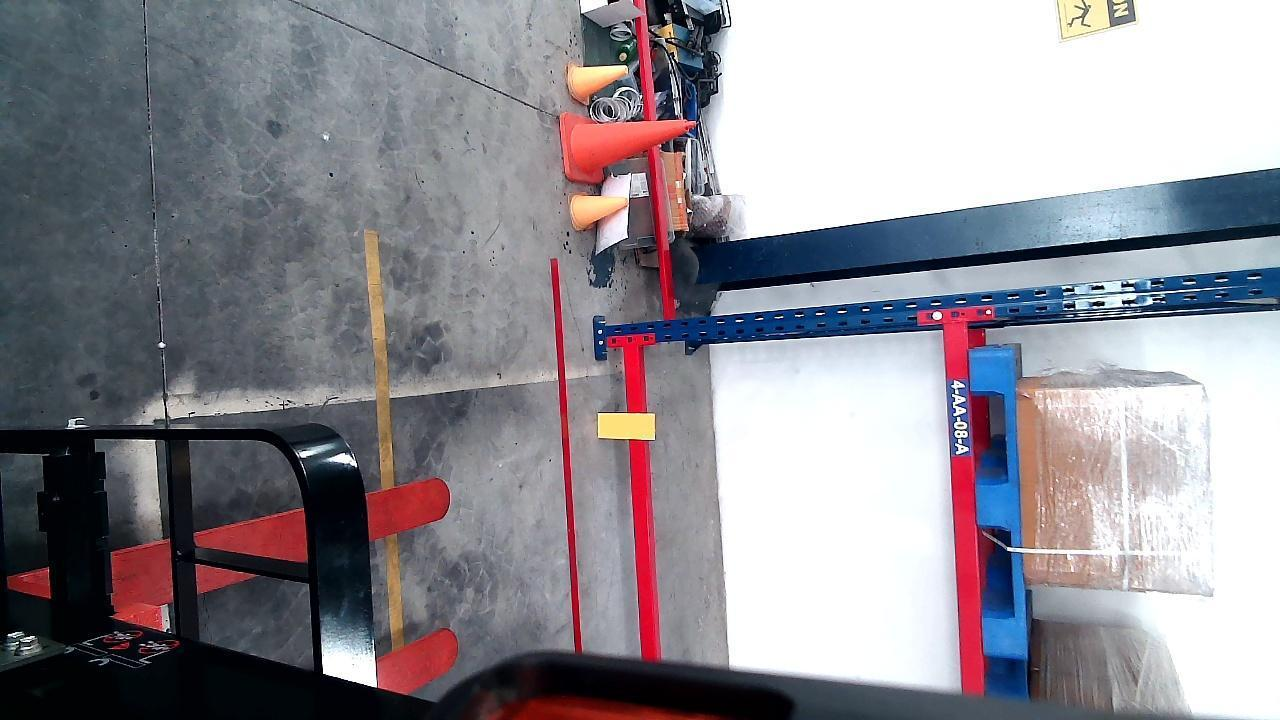h_rack: (945, 320, 982, 698), (624, 341, 664, 659)
orange_strip: (598, 412, 654, 440)
red_line: (549, 253, 585, 661)
small_pallet: (974, 349, 1023, 665)
yellow_line: (363, 225, 403, 655)
